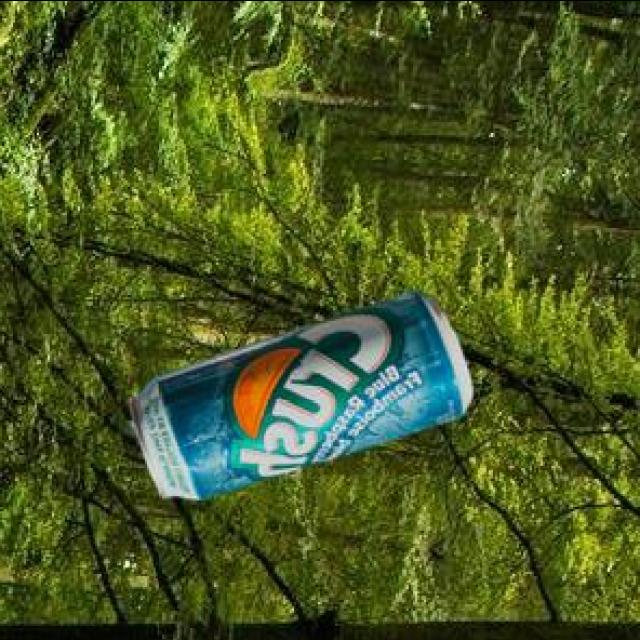logam: (133, 295, 475, 503)
